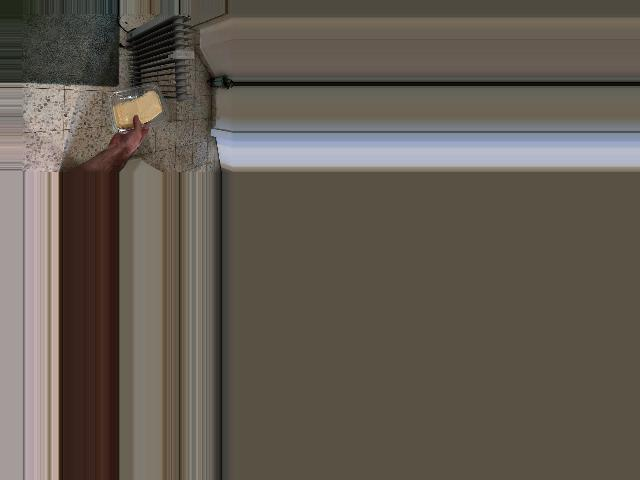cheese: (109, 89, 167, 130)
